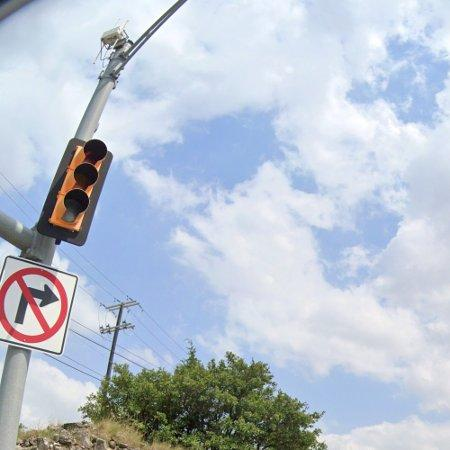traffic lights: (36, 138, 113, 246)
